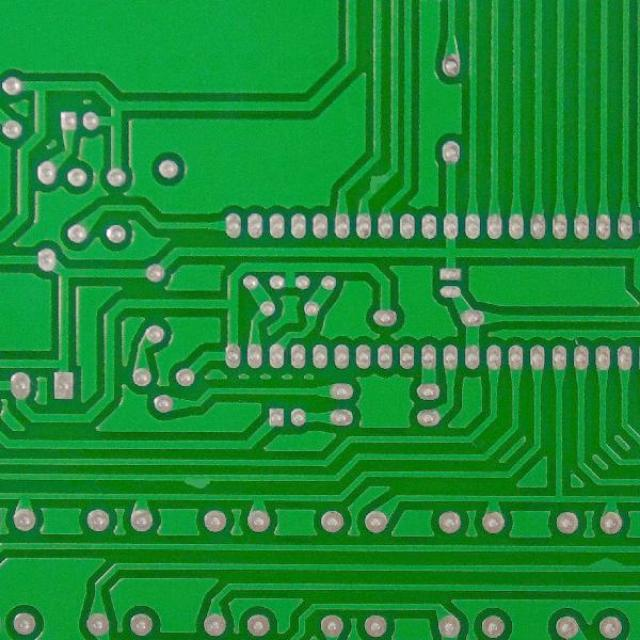Spur: (586, 552, 629, 577), (177, 469, 216, 490), (365, 170, 386, 194)
